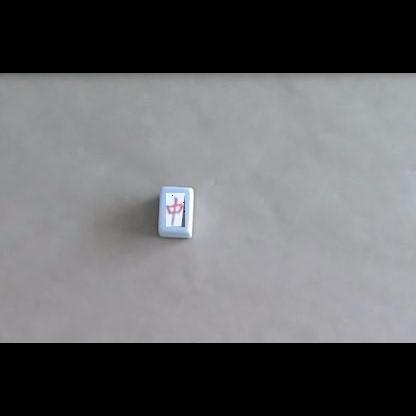7z: (166, 193, 185, 227)
